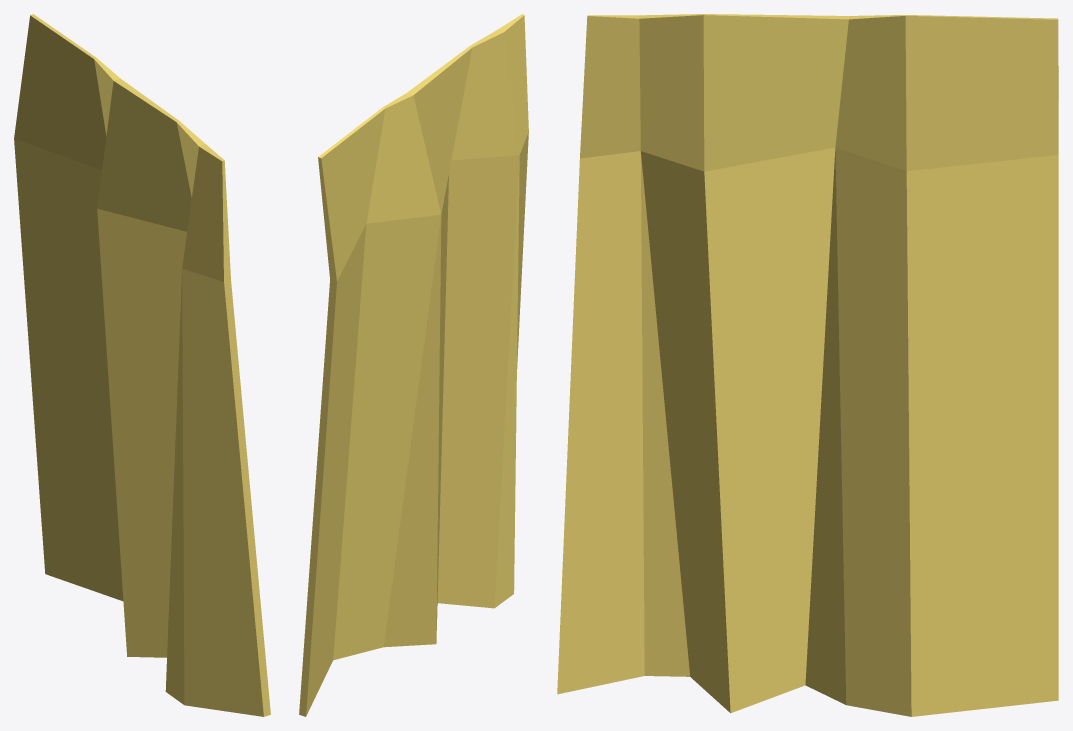
The model's file is Bathroom_Curtain.fbx.
The picture shows the model from 3 angles, left to right: view 1: azimuth 30°, elevation 25°; view 2: azimuth 150°, elevation 25°; view 3: azimuth 270°, elevation 25°; orthographic projection. The views are drawn at different scales.
Visible parts, largest first — view 1: Bathroom_Curtain; view 2: Bathroom_Curtain; view 3: Bathroom_Curtain.
Part boxes in pixels (x1,y1,x2,y2): Bathroom_Curtain: [14, 14, 270, 716]; Bathroom_Curtain: [299, 14, 528, 716]; Bathroom_Curtain: [557, 14, 1058, 716].
Size of the model in its own units: 43.73 by 278 by 188.
